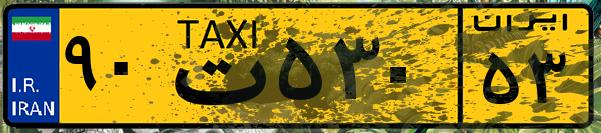0: (385, 28, 445, 110), (110, 28, 158, 98)
3: (330, 28, 385, 110), (525, 38, 570, 115)
5: (270, 28, 330, 110), (475, 38, 525, 113)
9: (57, 26, 110, 100)
ت: (158, 12, 270, 120)
